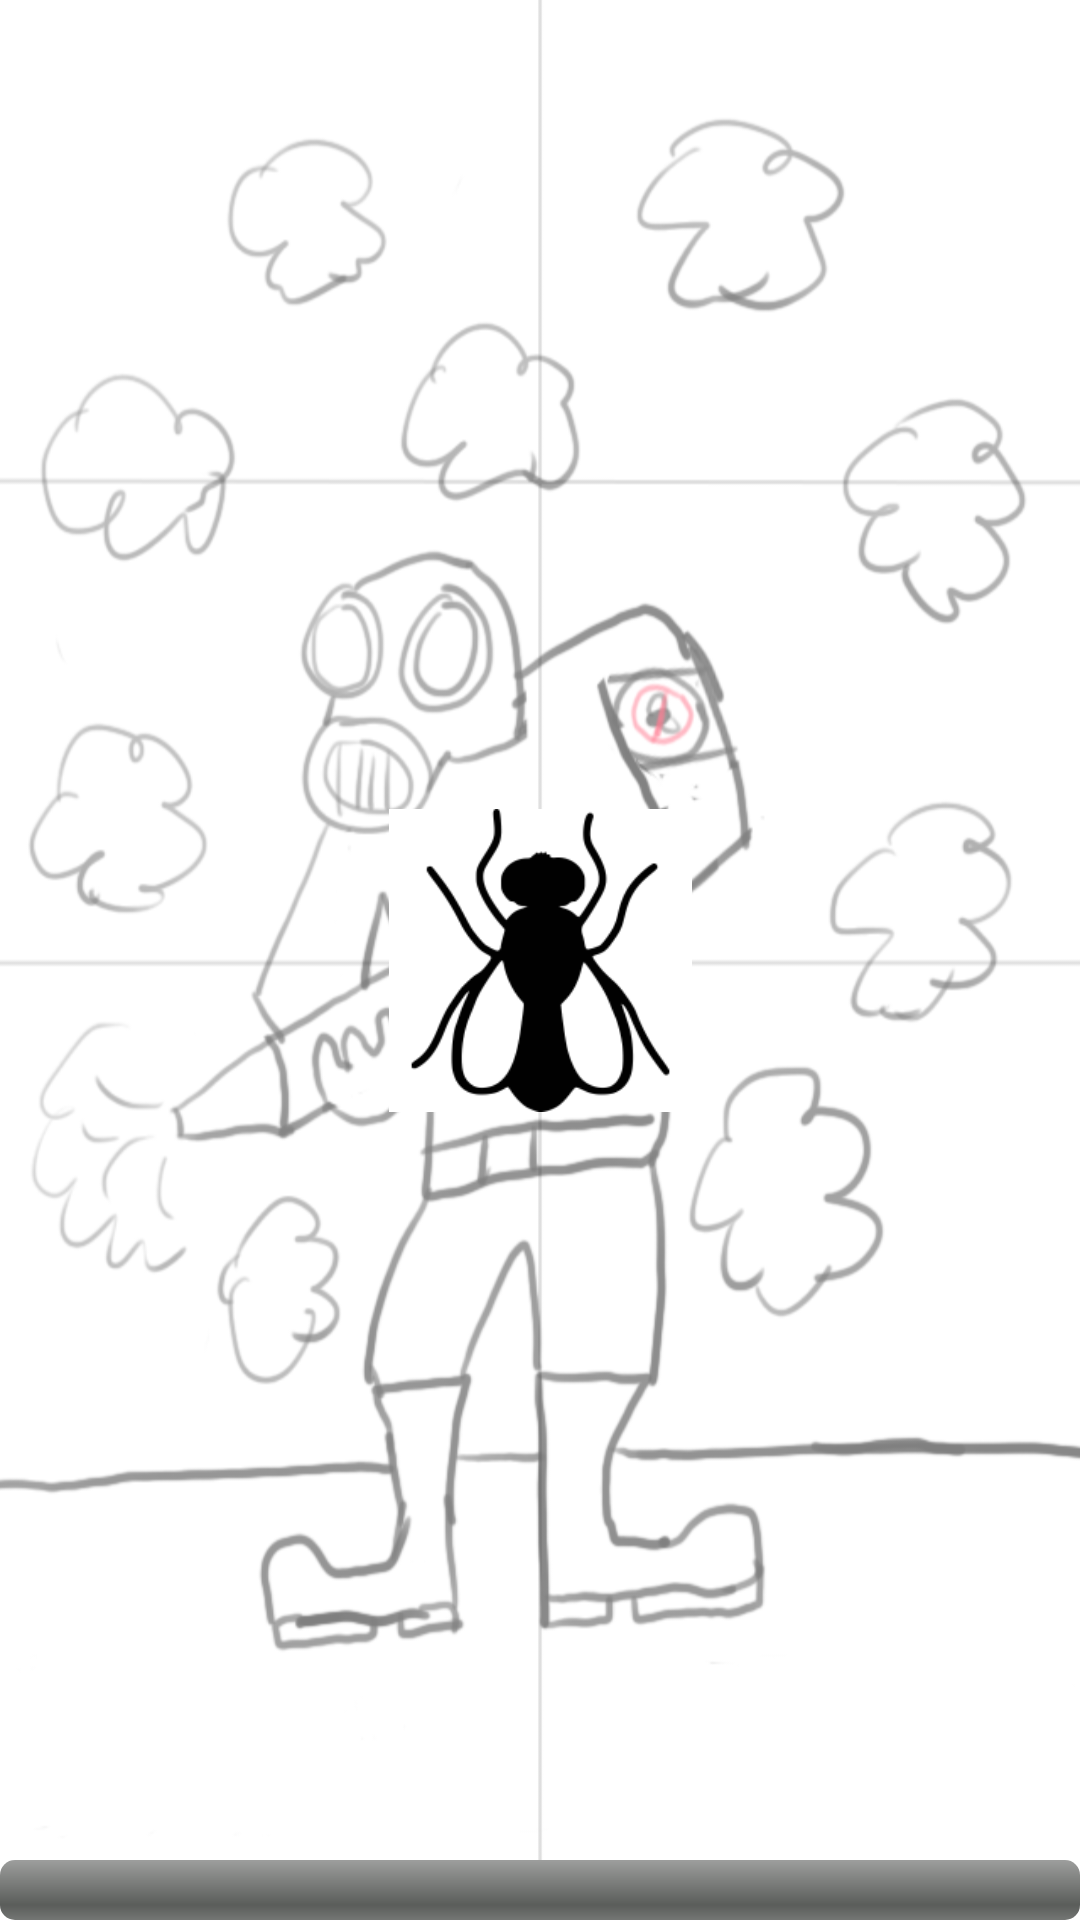

Named icons in this screenshot (1080w x 1920h) and their centers, point (x, y):
fly: point (540, 960)
